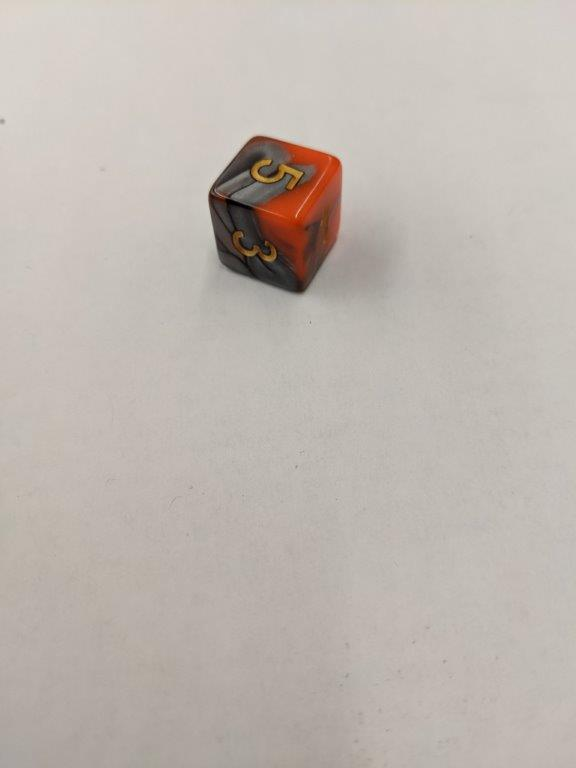d6-5: (208, 135, 345, 293)
